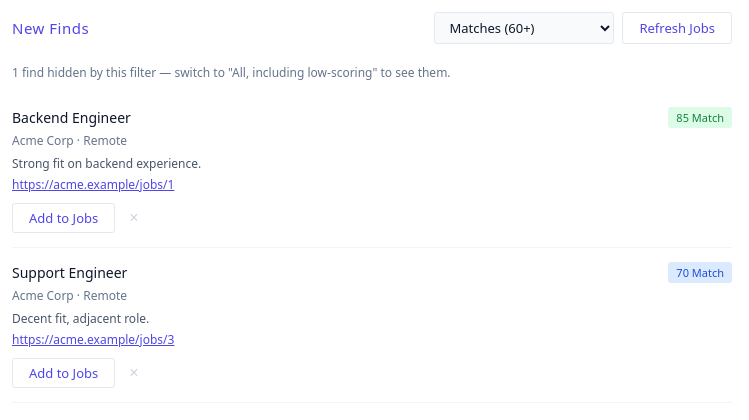
Test: JobFinds › filters to high-priority (80+) finds only
The image size is (749, 420).
Expected: the text "Backend Engineer" is shown, 12,108 -> 131,127
Select "High priority (80+)" in the dropdown: point(524, 28) 434,12 -> 614,44
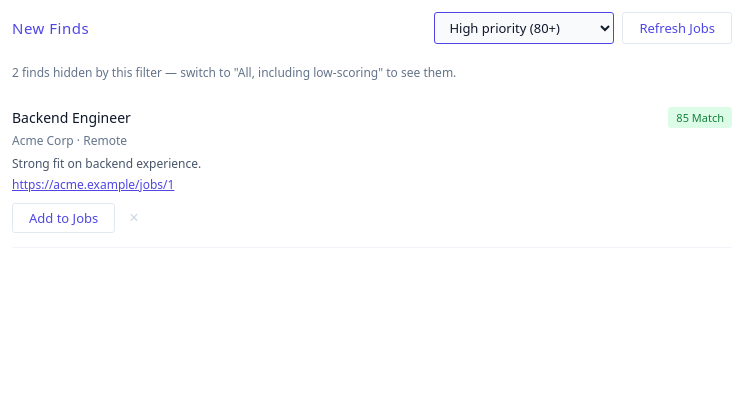
Expected: the text "Backend Engineer" is shown, 12,108 -> 131,127
Expected: the text "Support Engineer" is gone
